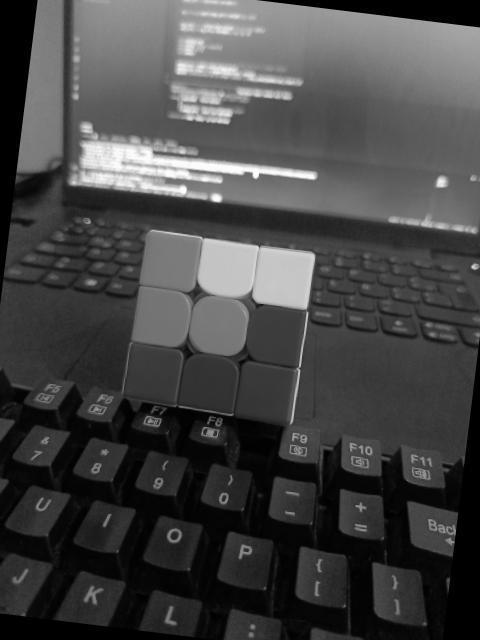rubik: (120, 227, 317, 426)
